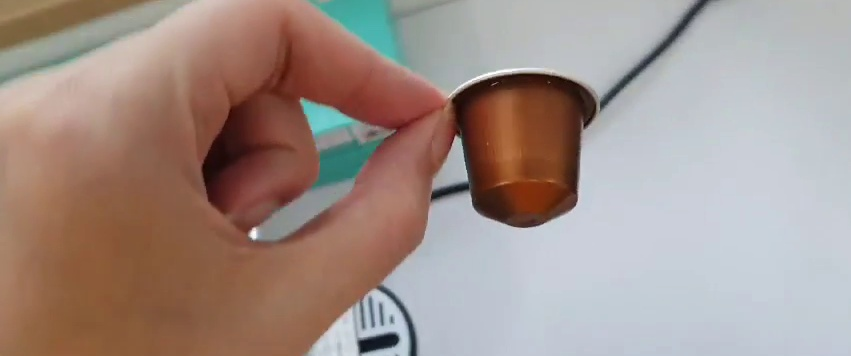capsule_3: (440, 67, 595, 233)
